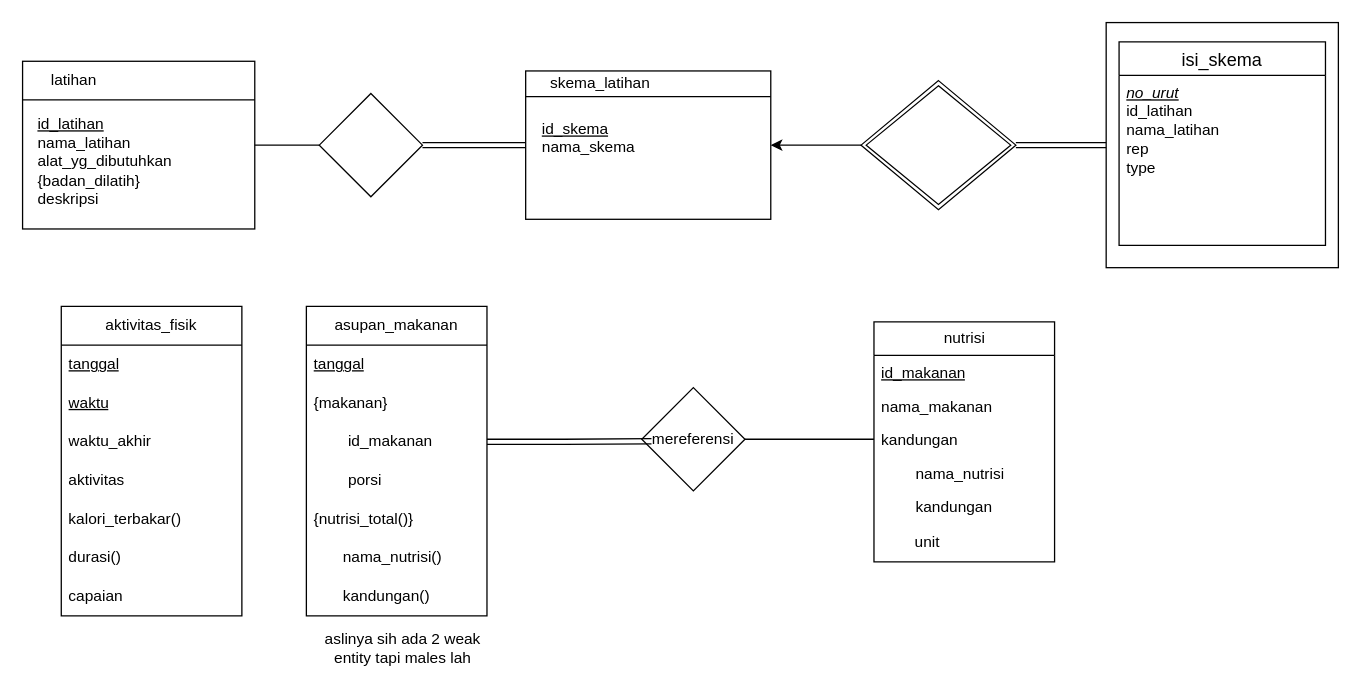
Some shapes in this 1361 by 690 pixel diagram are drawn without their labels. Here are the shapes that lost their labels. From the top down, the centre of each, then its label:
the point at 370,144: Terdiri Dari
the point at 938,144: Relationship
